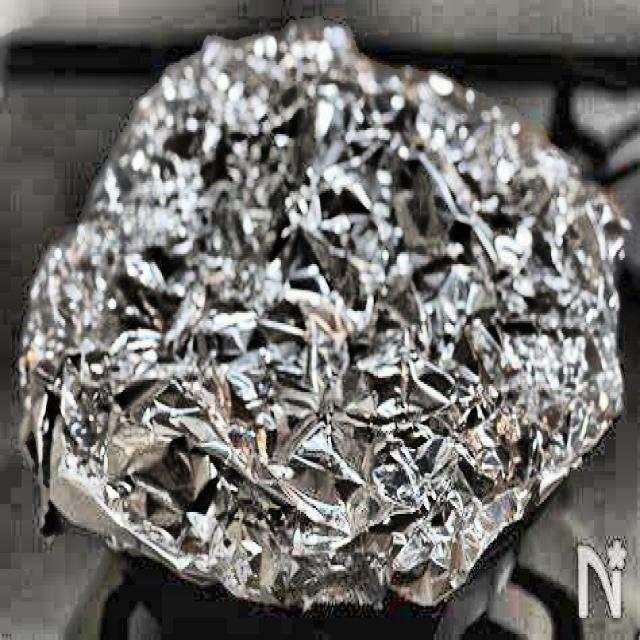Foil: (15, 8, 640, 604)
